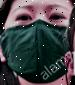with_mask: (1, 1, 75, 85)
